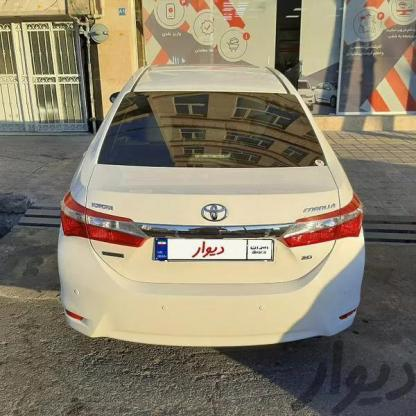Car: (55, 62, 372, 348)
